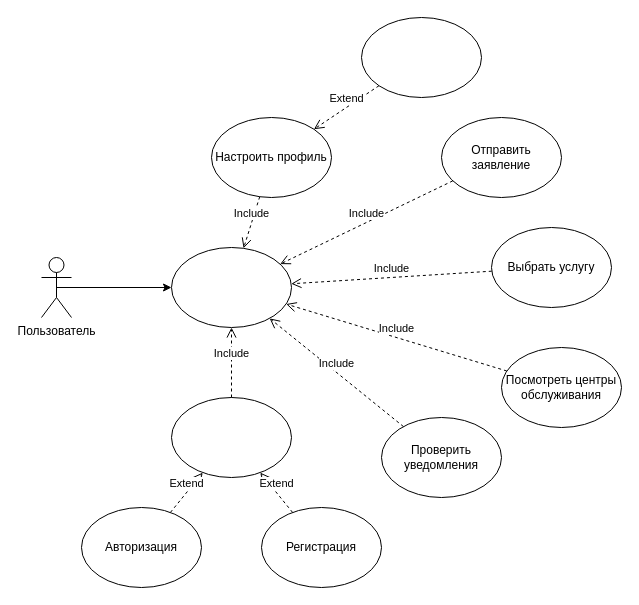
This 639x605 diagram has some shape labels left out. Here are the shapes that lost their labels. From the top down, the centre of each, then its label:
the point at 421,57: Вести документы
the point at 231,287: Взаимодействие с приложением
the point at 231,437: Вход в приложение
